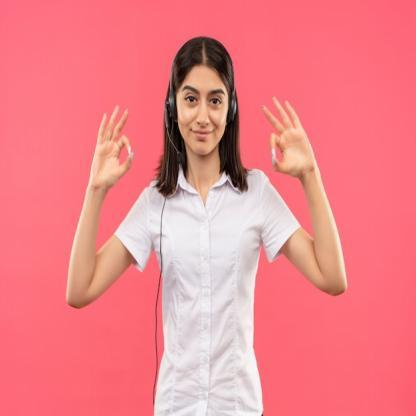ok: (260, 94, 318, 178), (90, 102, 134, 196)
